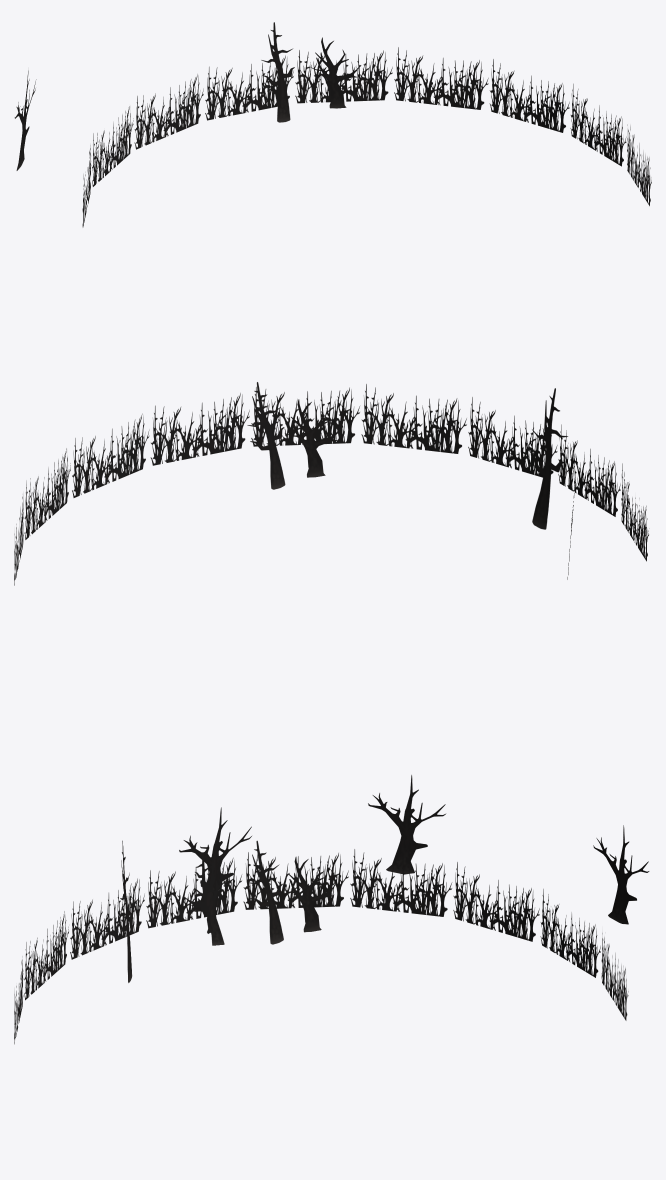
Rendered from village_trees_outer.gltf.
3 renders of one model, top to bottom at view 1: azimuth 30°, elevation 25°; view 2: azimuth 150°, elevation 25°; view 3: azimuth 270°, elevation 25°, orthographic. The views are drawn at different scales.
Parts seen in each view (by area): view 1: tree8.002; view 2: tree8.002; view 3: tree8.002.
Boxes of the visible parts, <box> form: tree8.002: <box>14,22,651,227</box>; tree8.002: <box>14,382,648,585</box>; tree8.002: <box>14,775,649,1044</box>.
Bounding box in the file's own units: 61.59 × 14.68 × 57.
1 material, 1 textured.
